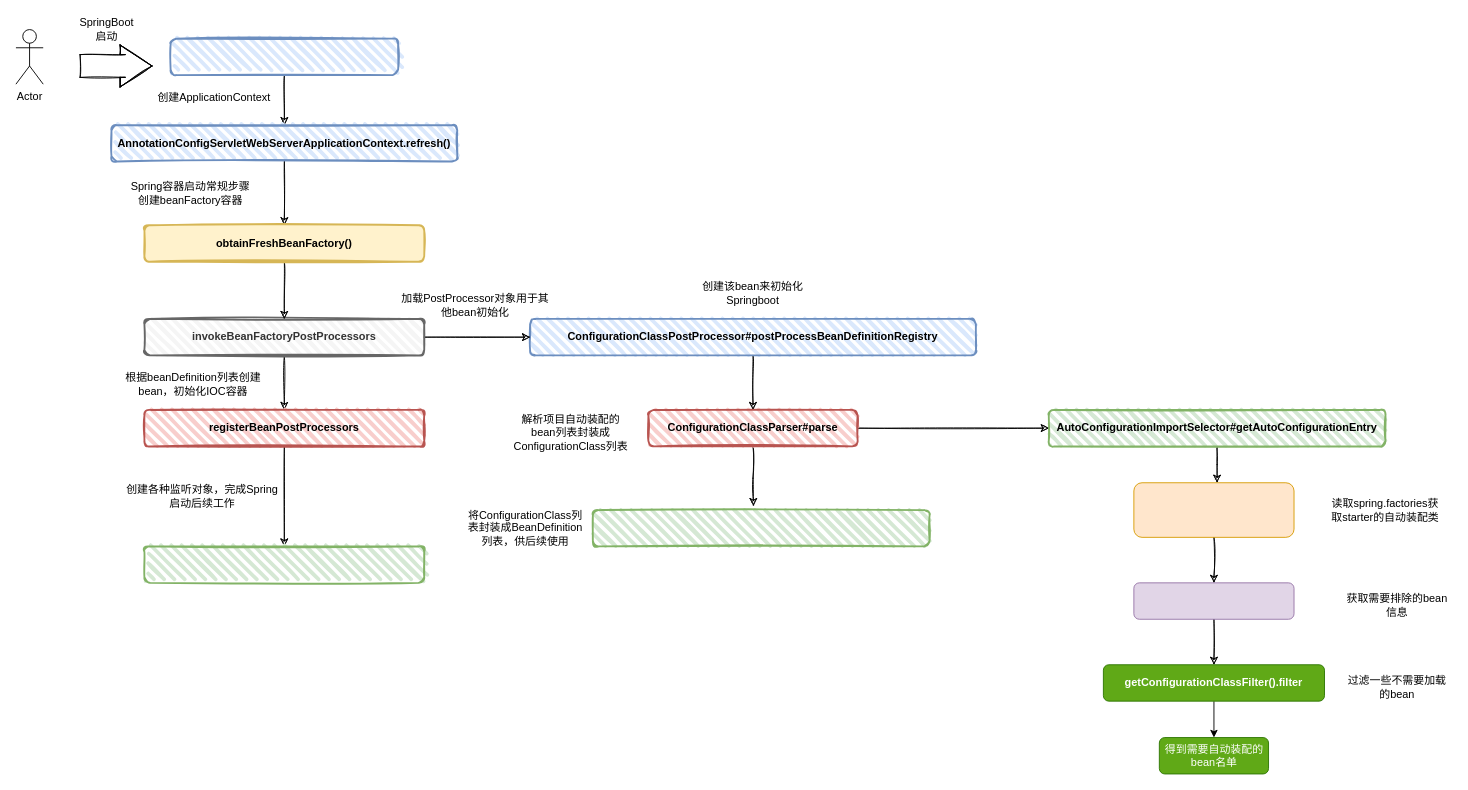
The diagram is 1468 pixels wide and 790 high, and some of its shapes have lost their labels. The box of each missing label's shape, as (x1, y1, x2, y2) in pixels:
ConfigurationClassBeanDefinitionReader#loadBeanDefinitions: (592, 509, 930, 547)
getCandidateConfigurations: (1133, 482, 1294, 537)
getExclusions: (1133, 582, 1294, 619)
SpringApplication.run(): (169, 37, 399, 76)
启动完成: (143, 545, 425, 583)
